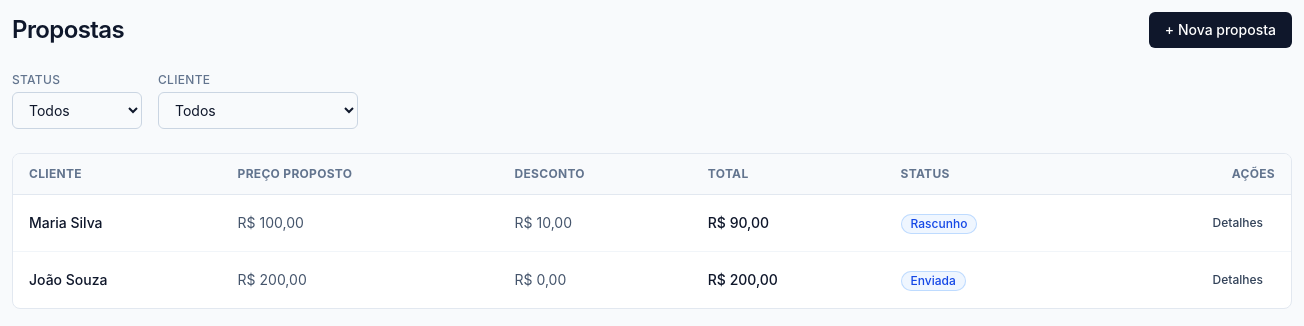
Test: ProposalsPage › filters › filters the table by status
Step 1. Select "SENT" in the dropdown labelled "Status" → (77, 110), box x1=12 y1=92 x2=142 y2=129
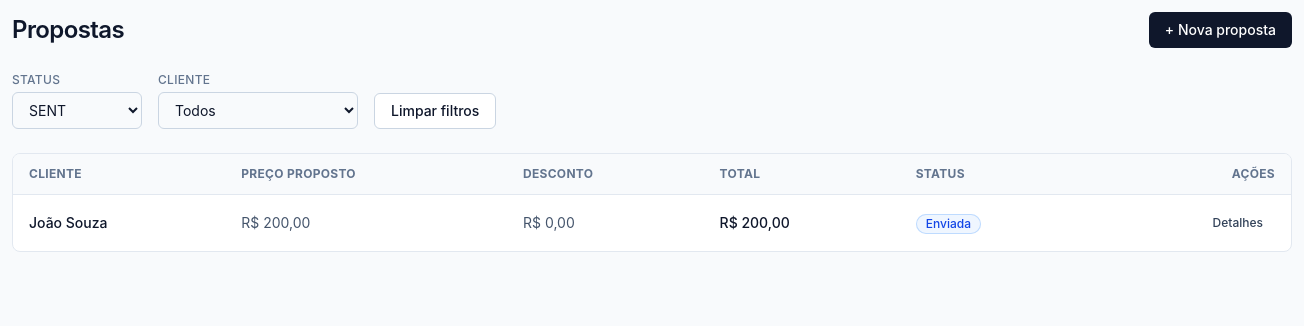
Expected: the text "Enviada" is shown, x1=916 y1=214 x2=981 y2=234
Expected: the text "Rascunho" is gone
